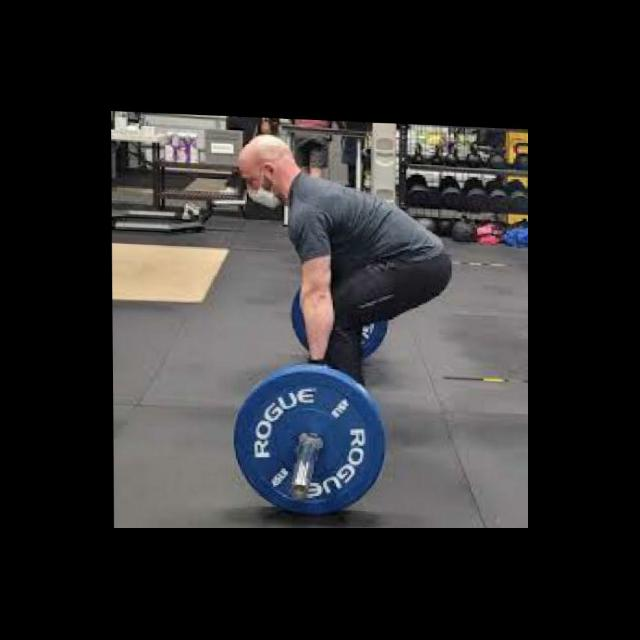barbell: (228, 352, 387, 522)
